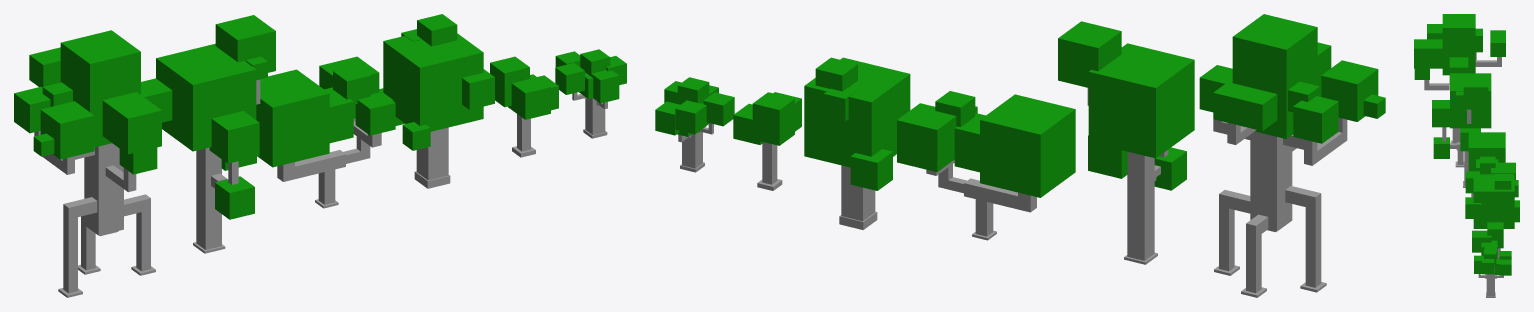
Rendered from trees.obj.
3 views of the same model, side by side, from view 1: azimuth 30°, elevation 25°; view 2: azimuth 150°, elevation 25°; view 3: azimuth 270°, elevation 25° (orthographic). The views are drawn at different scales.
Parts seen in each view (by area): view 1: Tree6, Tree5, Tree4, Tree1, Tree3, Tree2; view 2: Tree6, Tree5, Tree4, Tree1, Tree3, Tree2; view 3: Tree6, Tree5, Tree1, Tree4, Tree3, Tree2.
Boxes of the visible parts, x1,y1,x2,y2 form: Tree6: [14, 30, 172, 297]; Tree5: [156, 15, 275, 253]; Tree4: [256, 56, 395, 208]; Tree1: [379, 14, 494, 188]; Tree3: [555, 49, 626, 138]; Tree2: [490, 56, 558, 157]; Tree6: [1199, 14, 1385, 297]; Tree5: [1058, 21, 1194, 264]; Tree4: [897, 91, 1075, 240]; Tree1: [804, 57, 910, 229]; Tree3: [655, 77, 734, 172]; Tree2: [733, 92, 801, 190]; Tree6: [1414, 14, 1505, 167]; Tree5: [1432, 73, 1491, 187]; Tree1: [1465, 174, 1519, 258]; Tree4: [1465, 132, 1515, 197]; Tree3: [1474, 246, 1511, 297]; Tree2: [1472, 222, 1503, 278].
Size of the model in its own units: 40.03 by 14.95 by 10.39.
